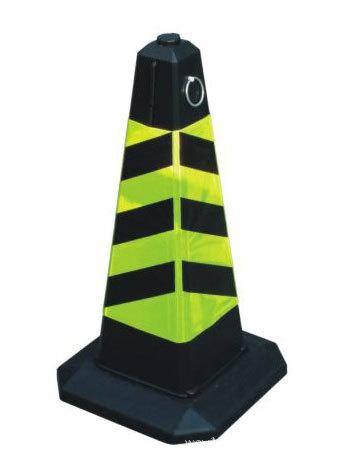cone_barrel: (75, 39, 272, 407)
